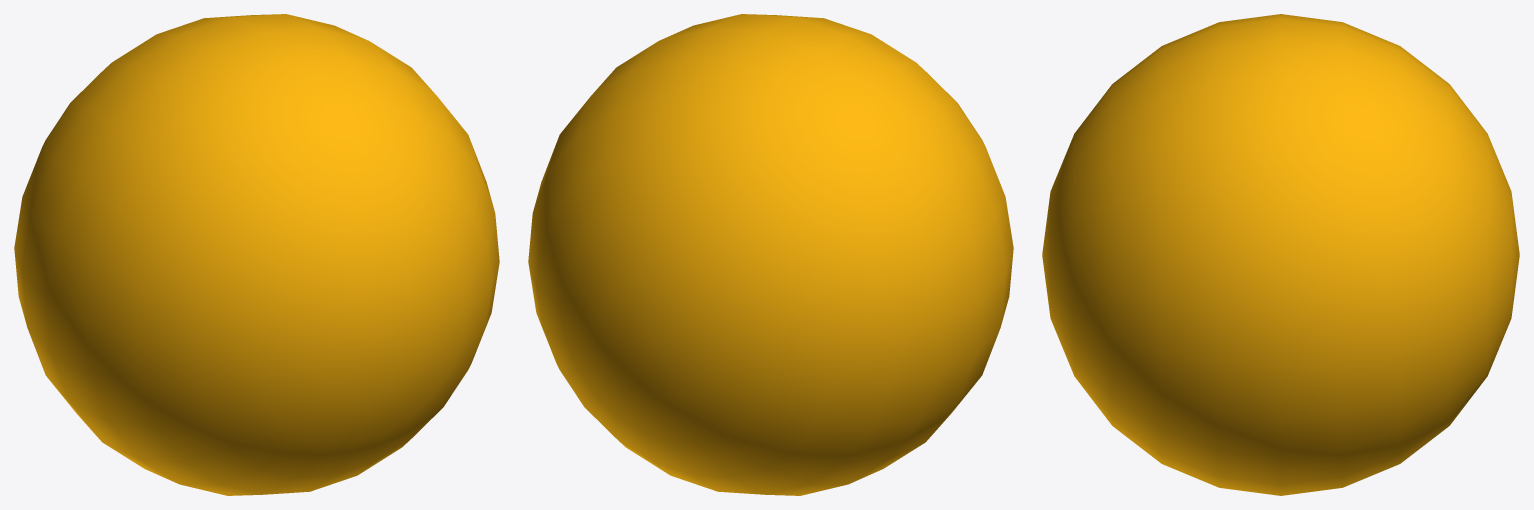
The model's file is ball.dae.
3 renders of one model, left to right at view 1: azimuth 30°, elevation 25°; view 2: azimuth 150°, elevation 25°; view 3: azimuth 270°, elevation 25°, orthographic.
Visible parts, largest first — view 1: group_0; view 2: group_0; view 3: group_0.
Part boxes in pixels (x1,y1,x2,y2): group_0: (14,14,499,495); group_0: (528,14,1013,495); group_0: (1042,14,1519,495).
Size of the model in its own units: 178 by 176 by 178.
